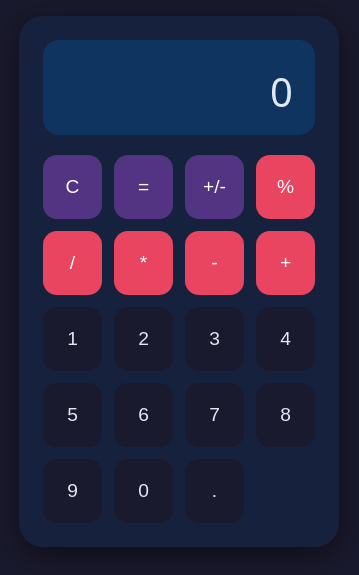
Test: Calculator › concatenates digits in the display
The image size is (359, 575).
Click the button "1". click: click(72, 338)
box: [43,306,102,370]
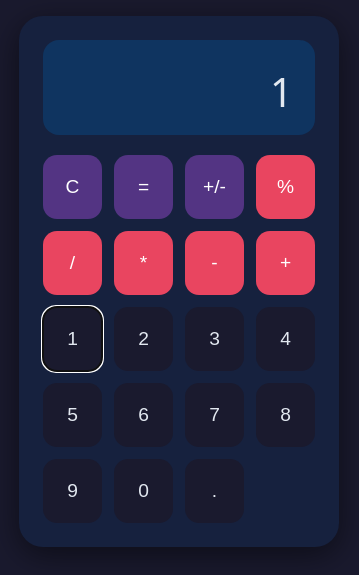
Click the button "2". click: click(144, 338)
box: [114,306,173,370]
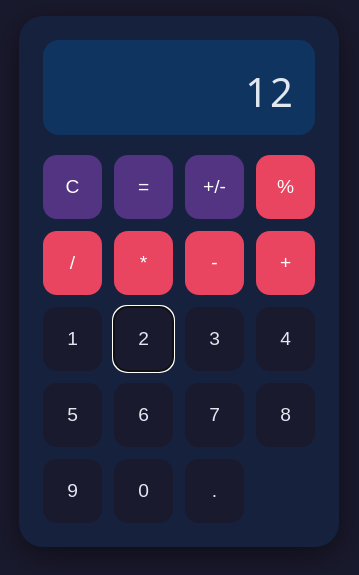
Click the button "3". click: click(214, 338)
box: [185,306,244,370]
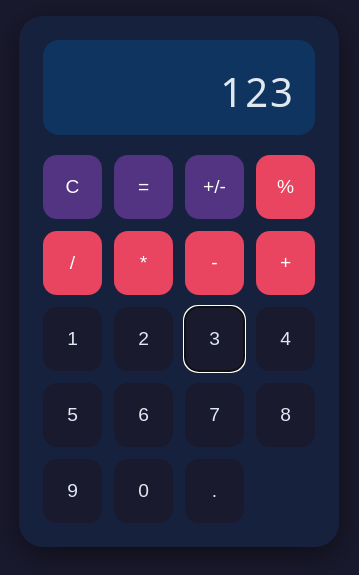
Now the text named "calculator display" reads "123", box [220,64,295,118]
